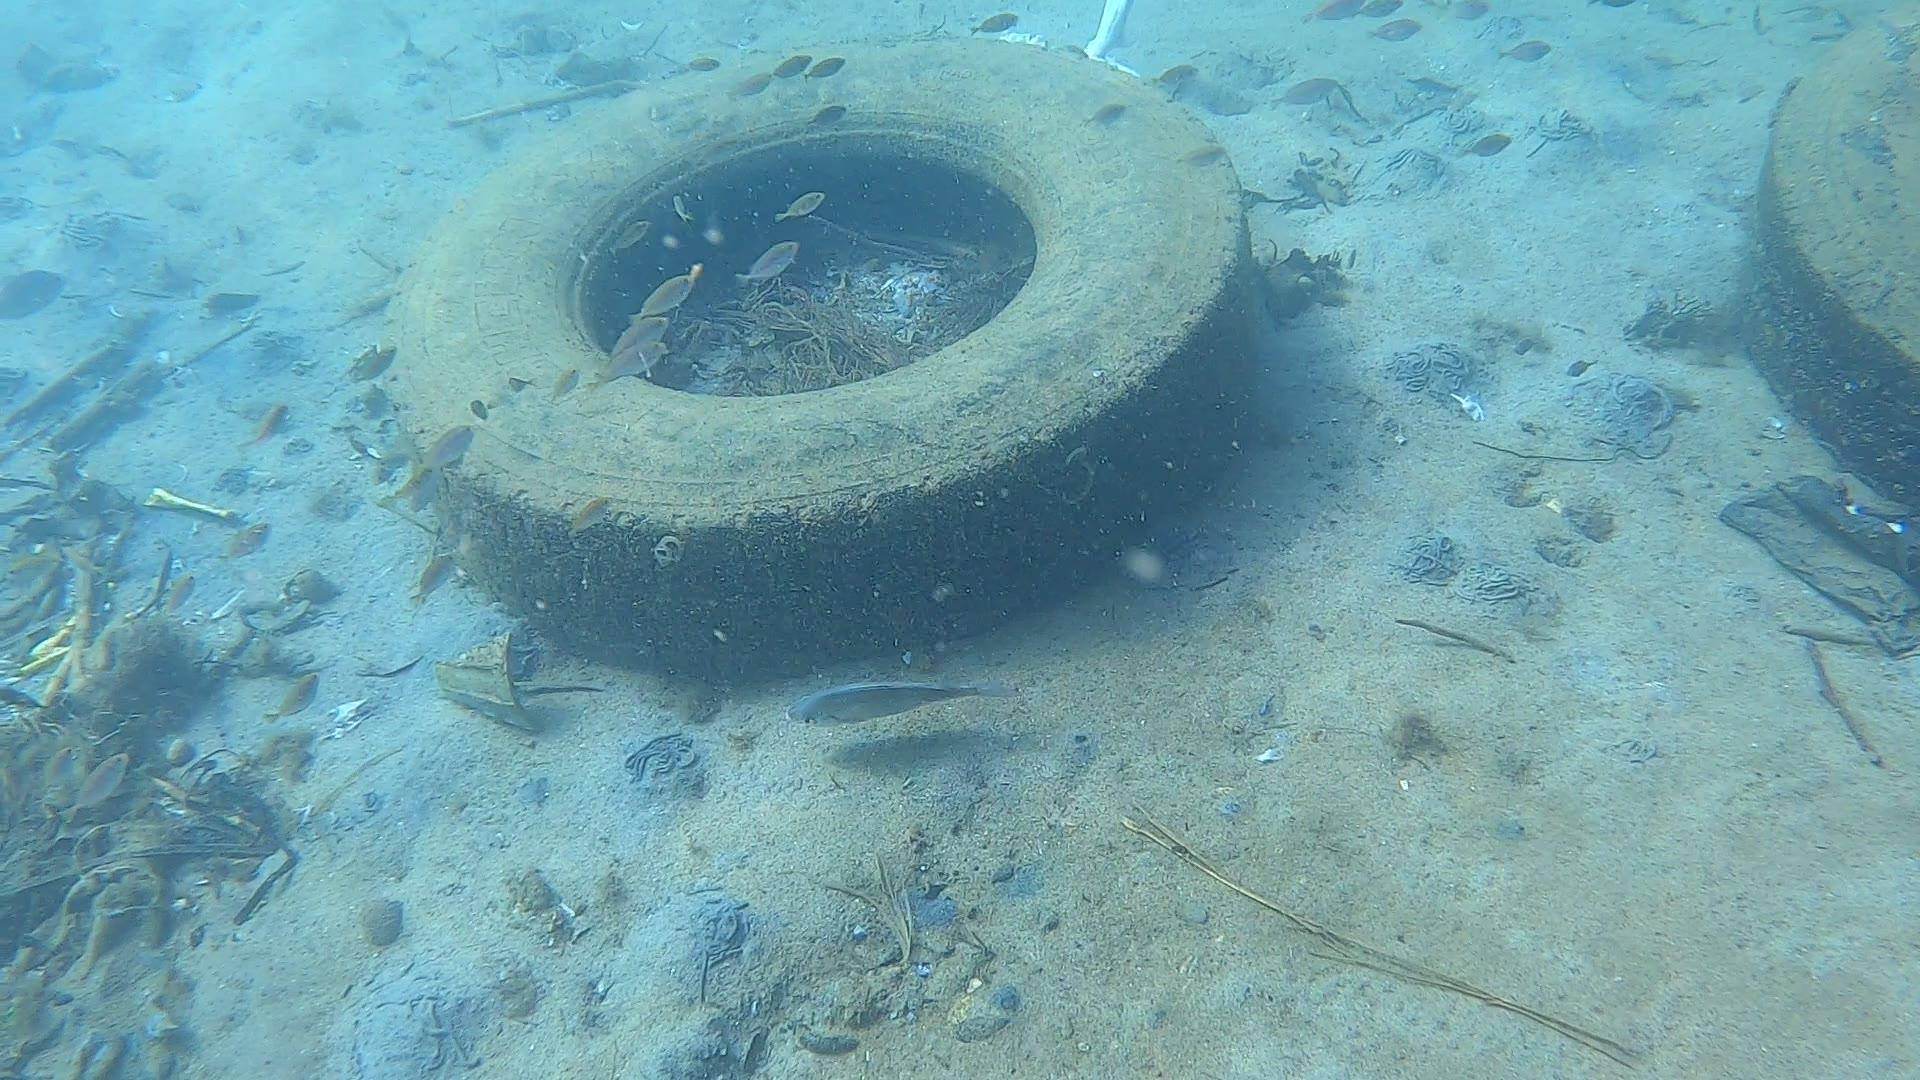tire: (376, 36, 1255, 680)
